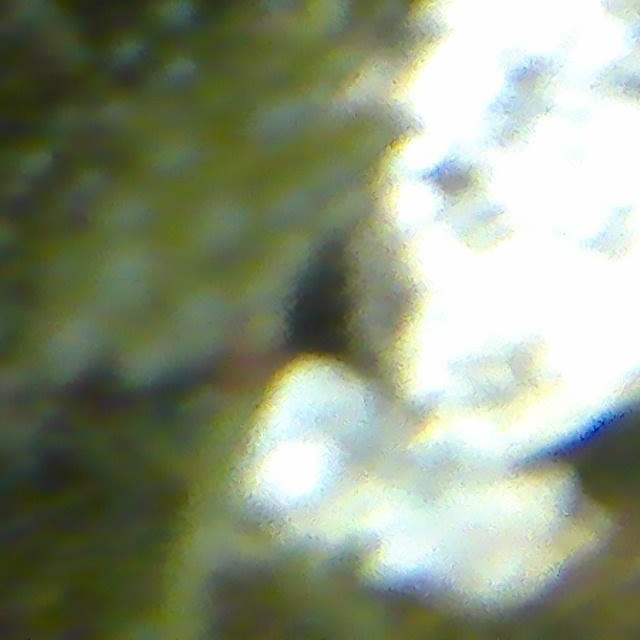SeaGrape: (87, 229, 173, 317), (162, 270, 246, 360), (26, 300, 113, 384), (180, 182, 266, 266), (147, 0, 203, 36)
